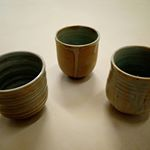cups: (1, 49, 50, 126), (105, 43, 150, 119), (52, 24, 102, 85)
